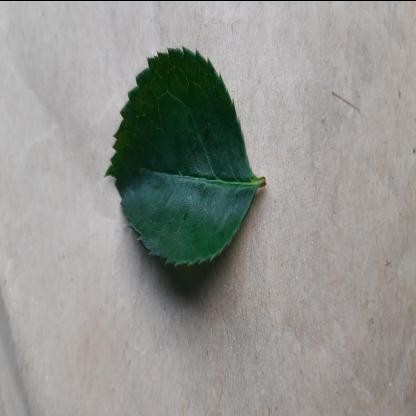normal: (106, 37, 258, 276)
